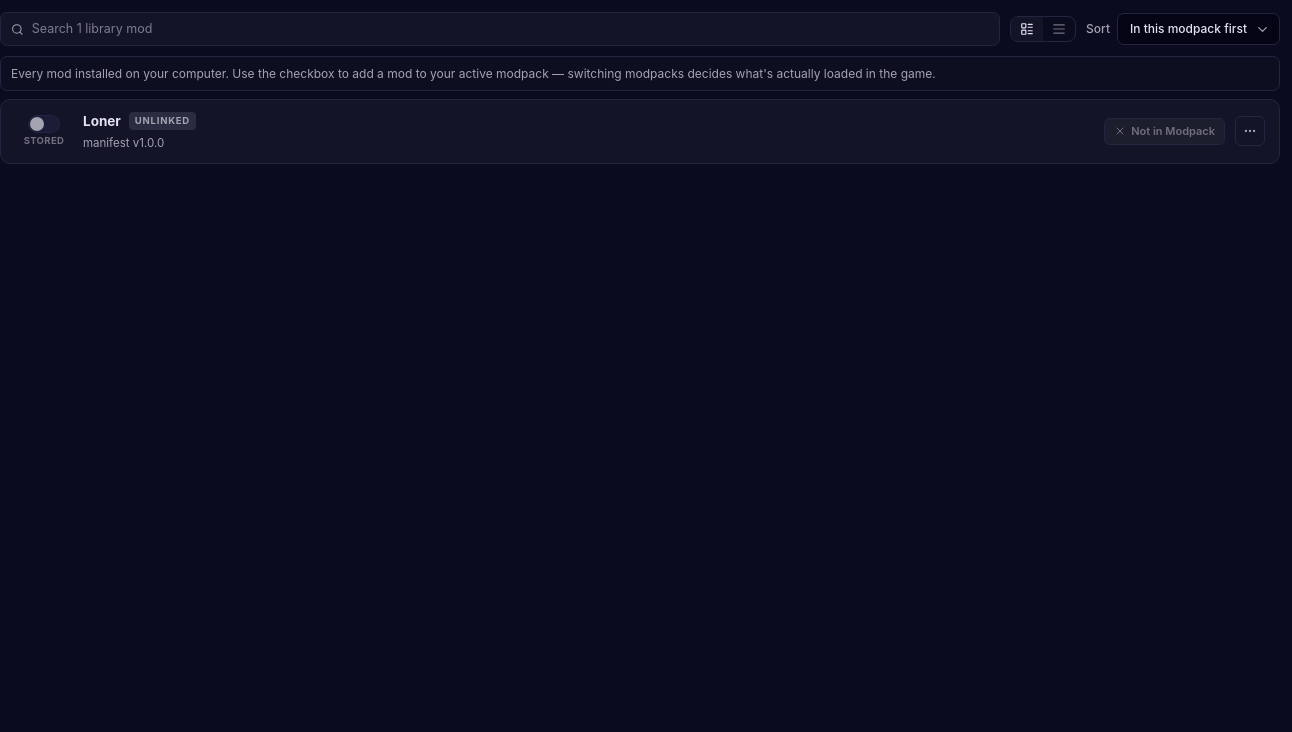
Test: <LibraryTable> › enable not-in-pack with a FOLLOWED (non-editable) active pack: no prompt, explains via toast
Click the switch named "toggle whether Loner is active in game": (44, 125) [28,116,60,134]
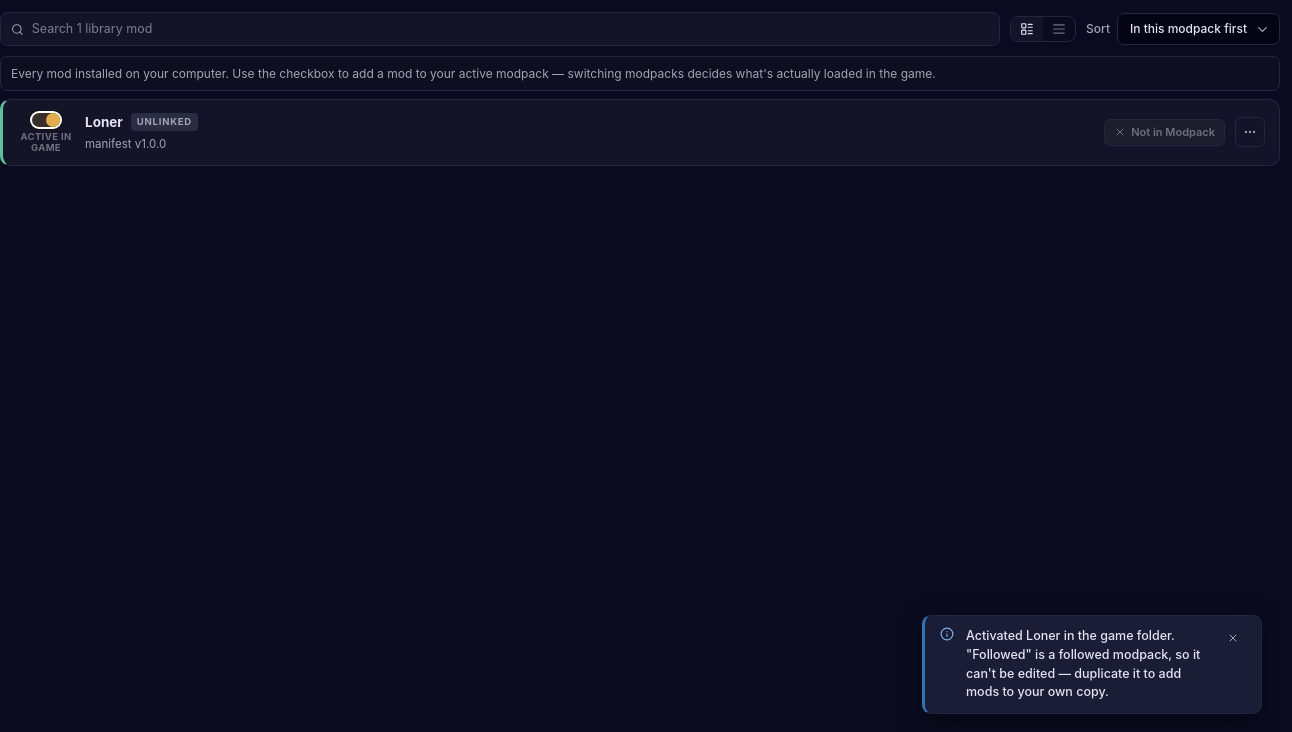
Check: the text "followed modpack, so it can't be edited" is shown, box [966,628,1200,699]
